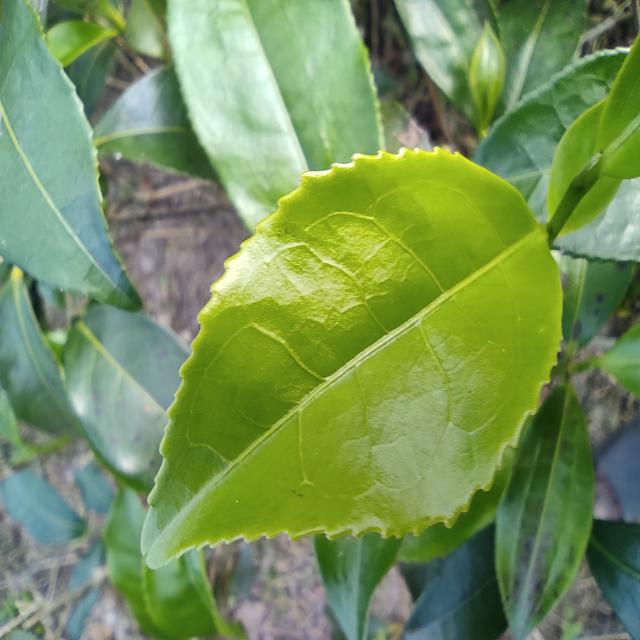Category B(2-4 days): (120, 92, 582, 601)
